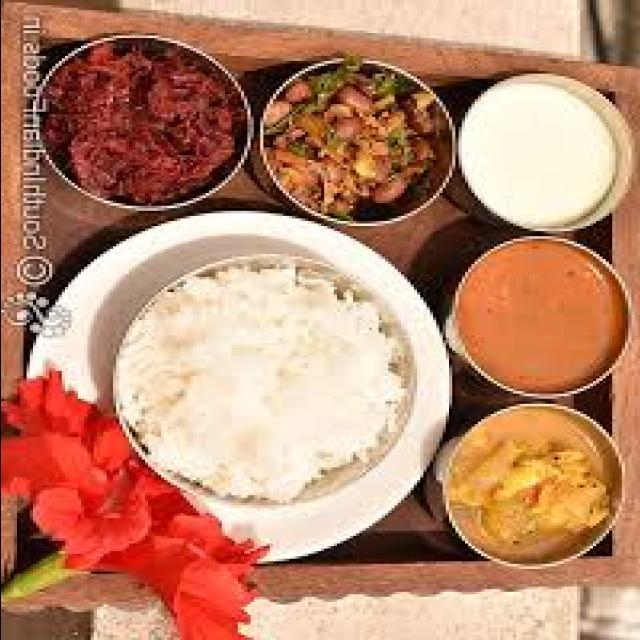curd: (452, 74, 626, 232)
dal: (441, 243, 628, 393)
rice: (109, 253, 405, 485), (250, 67, 453, 219)
